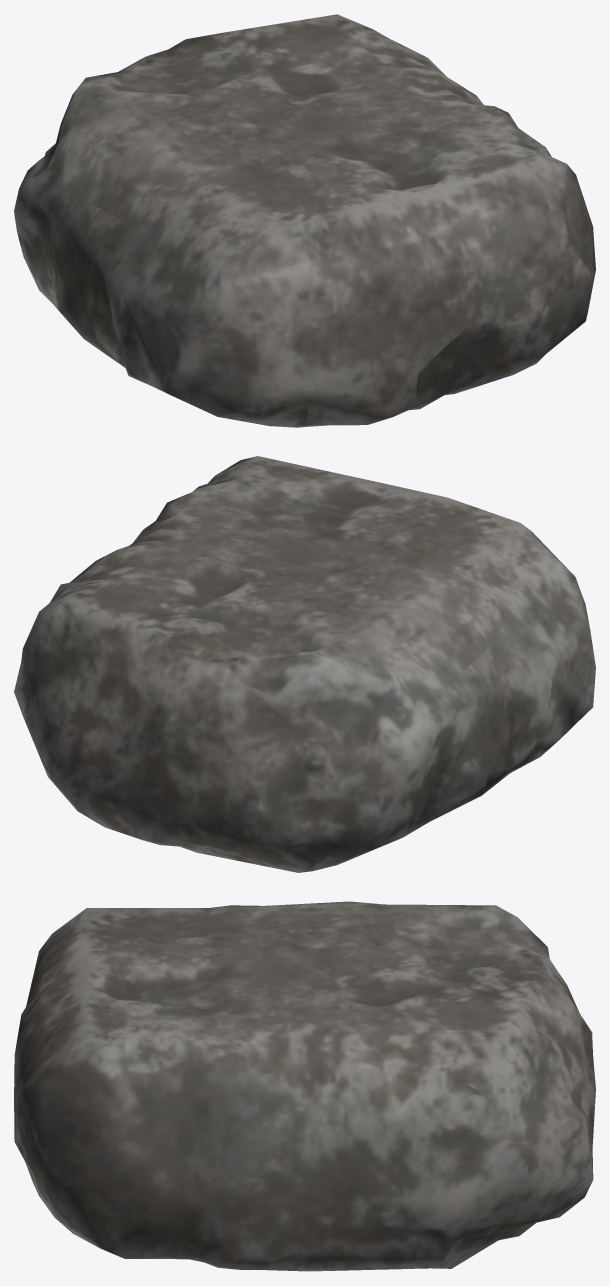
Rendered from SM_RP_Vol_01_12.fbx.
3 renders of one model, top to bottom at view 1: azimuth 30°, elevation 25°; view 2: azimuth 150°, elevation 25°; view 3: azimuth 270°, elevation 25°, orthographic. The views are drawn at different scales.
Visible parts, largest first — view 1: SM_RP_Vol_01_12; view 2: SM_RP_Vol_01_12; view 3: SM_RP_Vol_01_12.
Part boxes in pixels (x1,y1,x2,y2): SM_RP_Vol_01_12: (14,14,595,427); SM_RP_Vol_01_12: (14,456,595,872); SM_RP_Vol_01_12: (14,901,595,1271).
Size of the model in its own units: 12.37 by 6.2 by 13.98.
1 material, 1 textured.
